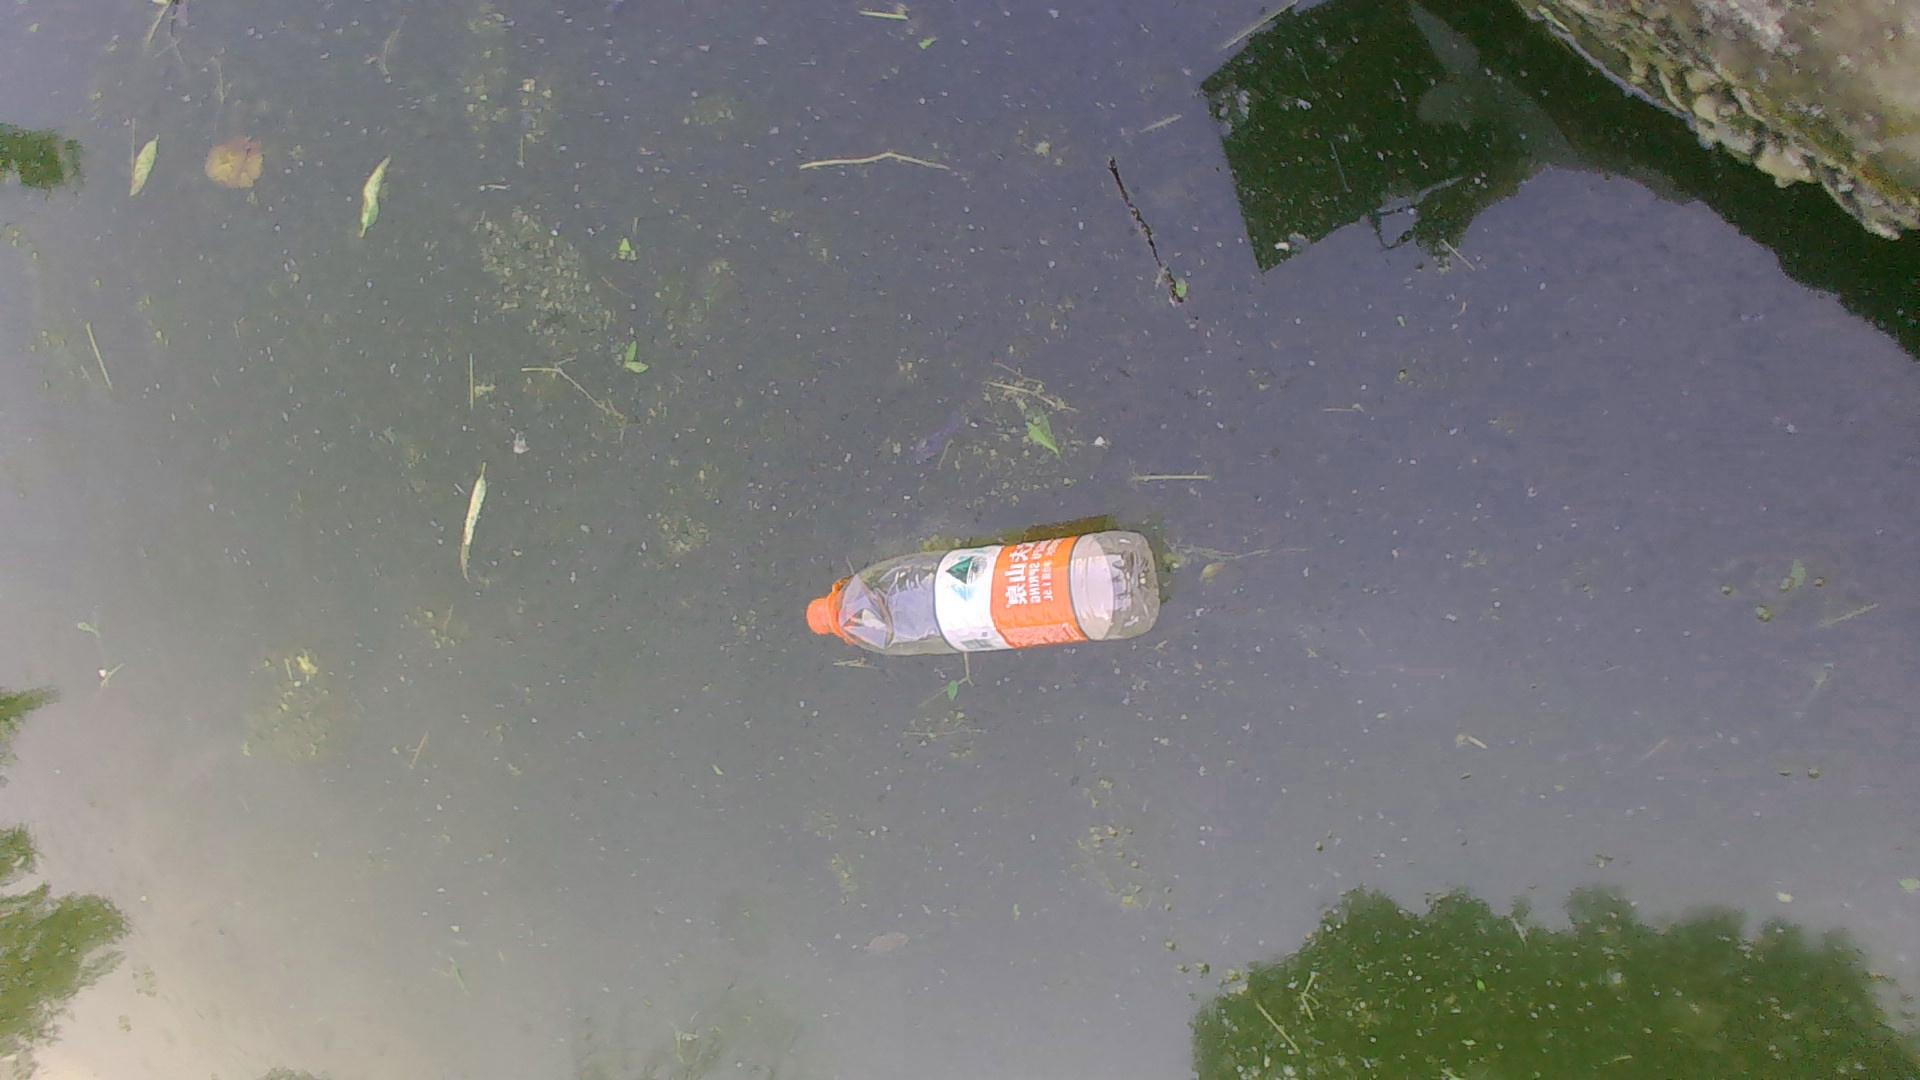Plastic: (795, 524, 1172, 669)
